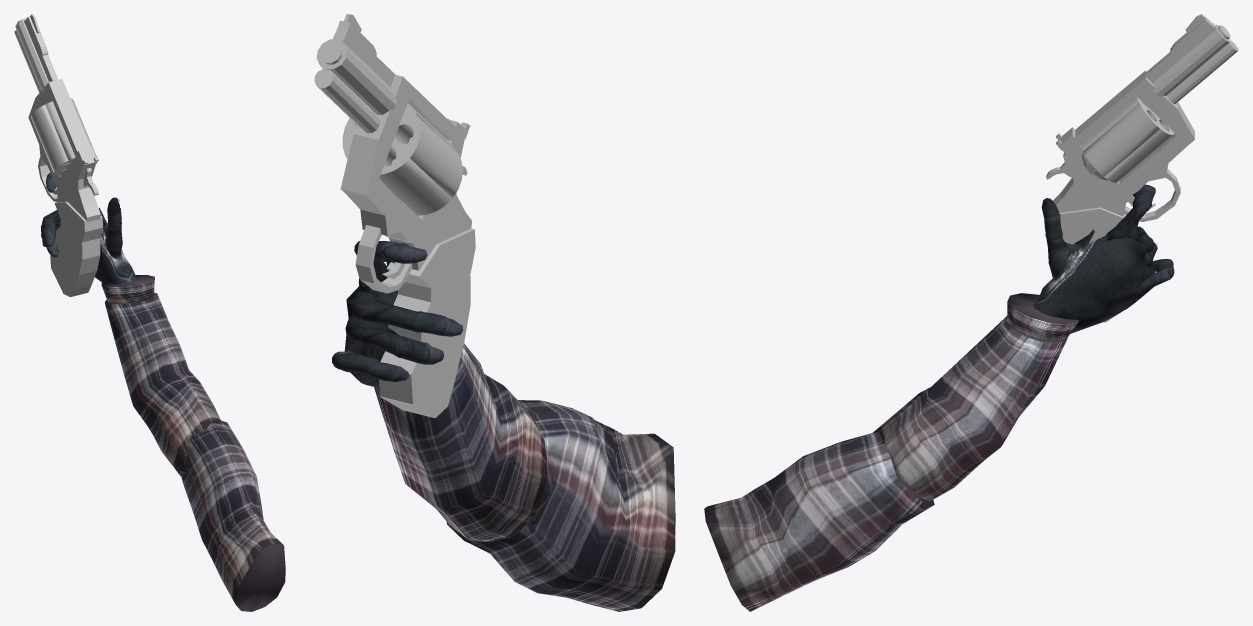
File: S&W500_ads_fire.fbx
The picture shows the model from 3 angles, left to right: view 1: azimuth 30°, elevation 25°; view 2: azimuth 150°, elevation 25°; view 3: azimuth 270°, elevation 25°; orthographic projection. The views are drawn at different scales.
Parts seen in each view (by area): view 1: rupperarm, rforearm, 500Body, 500Grip, 500Cylinder, rhand, 500Barrel, 500FrontSight, rthumbback; view 2: rupperarm, rforearm, 500Grip, 500Body, 500Cylinder, 500Barrel, 500TriggerGuard, rmfingerback, 500FrontSight, rhand, rifingerback, rifingermiddle (+4 smaller); view 3: rupperarm, rforearm, 500Body, rhand, 500Cylinder, 500Barrel, 500Grip, 500FrontSight, rthumbback, rpfingerback.
Boxes of the visible parts, x1,y1,x2,y2 form: rupperarm: (180,420,285,611); rforearm: (101,275,220,475); 500Body: (28,79,100,221); 500Grip: (50,201,102,296); 500Cylinder: (30,98,96,175); rhand: (95,235,137,284); 500Barrel: (14,18,48,92); 500FrontSight: (24,14,58,81); rthumbback: (99,208,122,258); rupperarm: (446,400,675,611); rforearm: (374,343,547,541); 500Grip: (379,228,475,417); 500Body: (340,74,472,270); 500Cylinder: (342,103,462,215); 500Barrel: (314,39,396,133); 500TriggerGuard: (355,225,412,293); rmfingerback: (352,290,420,331); 500FrontSight: (333,14,395,87); rhand: (344,279,397,386); rifingerback: (345,315,408,356); rifingermiddle: (389,336,430,363); rupperarm: (704,431,934,611); rforearm: (872,293,1078,501); 500Body: (1053,70,1194,216); rhand: (1033,235,1154,333); 500Cylinder: (1080,97,1174,182); 500Barrel: (1152,25,1238,103); 500Grip: (1059,207,1135,322); 500FrontSight: (1145,14,1215,82); rthumbback: (1046,228,1094,279); rpfingerback: (1105,201,1147,240).
Size of the model in its own units: 5.8 by 27.85 by 23.52.
